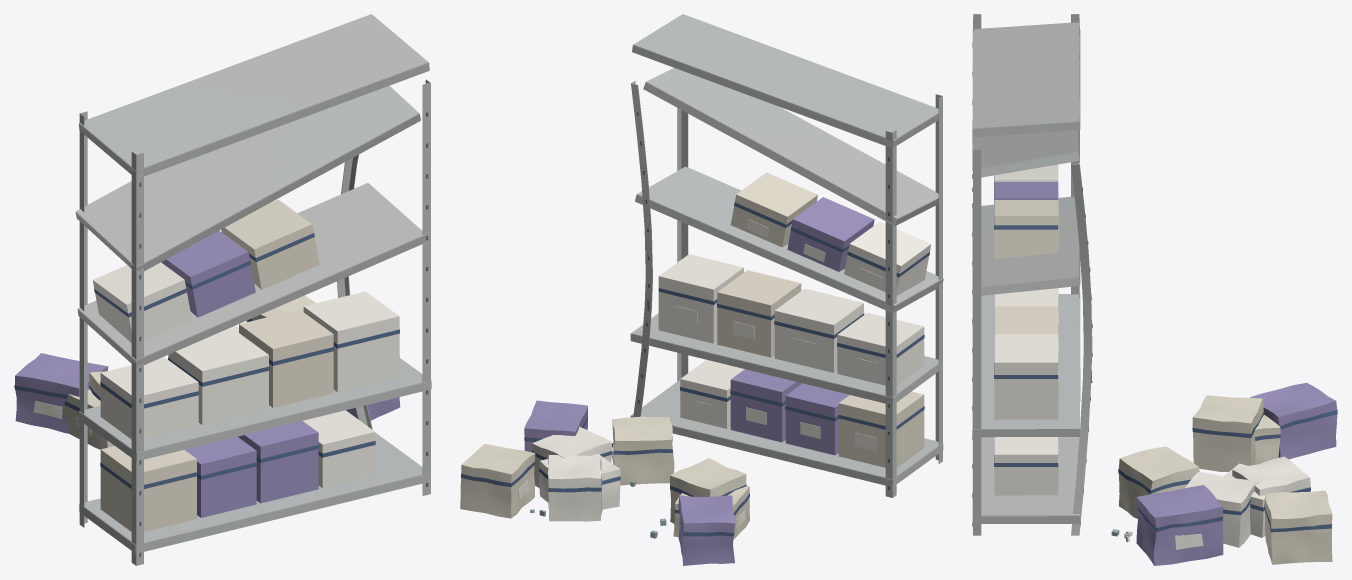
Rendered from angle_rack_broken.fbx.
3 renders of one model, left to right at view 1: azimuth 30°, elevation 25°; view 2: azimuth 150°, elevation 25°; view 3: azimuth 270°, elevation 25°, orthographic. The views are drawn at different scales.
Parts seen in each view (by area): view 1: angle_rack_broken, angle_rack_broken_debris; view 2: angle_rack_broken, angle_rack_broken_debris; view 3: angle_rack_broken, angle_rack_broken_debris.
Part boxes in pixels (x1,y1,x2,y2): angle_rack_broken: (75, 14, 431, 565); angle_rack_broken_debris: (14, 295, 400, 449); angle_rack_broken: (630, 14, 943, 497); angle_rack_broken_debris: (460, 400, 749, 565); angle_rack_broken: (972, 14, 1092, 535); angle_rack_broken_debris: (1111, 383, 1337, 565).
Bounding box in the file's own units: 186 × 214 × 171.
